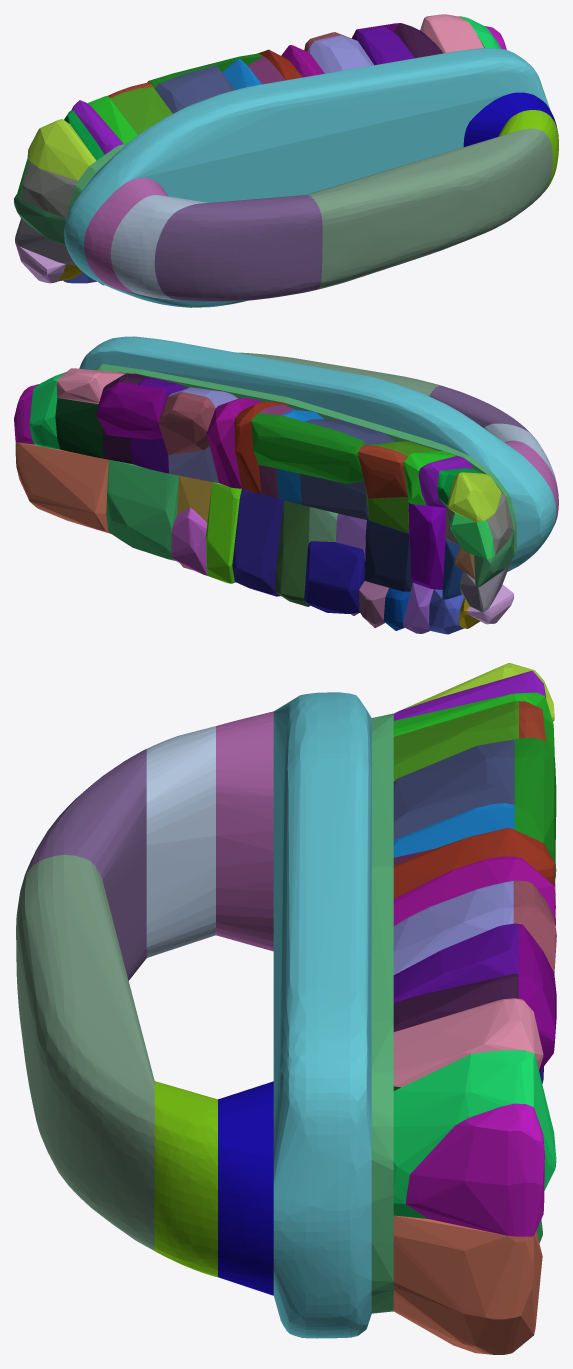
File: handle_eraser.obj
The picture shows the model from 3 angles, top to bottom: view 1: azimuth 30°, elevation 25°; view 2: azimuth 150°, elevation 25°; view 3: azimuth 270°, elevation 25°; orthographic projection. The views are drawn at different scales.
Parts seen in each view (by area): view 1: geometry_2, geometry_0, geometry_1, geometry_6, geometry_7, geometry_34, geometry_5, geometry_16, geometry_35, geometry_30, geometry_12, geometry_24 (+16 smaller); view 2: geometry_2, geometry_9, geometry_10, geometry_8, geometry_18, geometry_20, geometry_3, geometry_11, geometry_16, geometry_19, geometry_32, geometry_21 (+38 smaller); view 3: geometry_2, geometry_0, geometry_9, geometry_6, geometry_22, geometry_3, geometry_7, geometry_1, geometry_23, geometry_4, geometry_5, geometry_16 (+15 smaller).
Boxes of the visible parts, x1,y1,x2,y2 form: geometry_2: [64, 48, 549, 307]; geometry_0: [306, 128, 552, 289]; geometry_1: [154, 195, 322, 301]; geometry_6: [111, 195, 208, 300]; geometry_7: [84, 178, 168, 294]; geometry_34: [27, 119, 96, 180]; geometry_5: [463, 92, 558, 146]; geometry_16: [154, 65, 234, 113]; geometry_35: [21, 162, 77, 218]; geometry_30: [110, 87, 172, 134]; geometry_12: [307, 35, 373, 73]; geometry_24: [420, 14, 484, 53]; geometry_2: [79, 336, 556, 571]; geometry_9: [15, 442, 110, 533]; geometry_10: [106, 460, 178, 561]; geometry_8: [251, 413, 365, 483]; geometry_18: [232, 489, 283, 596]; geometry_20: [304, 541, 364, 613]; geometry_3: [92, 364, 516, 558]; geometry_11: [96, 382, 166, 439]; geometry_16: [300, 419, 395, 520]; geometry_19: [275, 500, 310, 606]; geometry_32: [408, 502, 445, 589]; geometry_21: [364, 520, 412, 591]; geometry_2: [273, 692, 371, 1338]; geometry_0: [16, 854, 154, 1250]; geometry_9: [393, 1215, 542, 1354]; geometry_6: [146, 726, 215, 957]; geometry_22: [405, 1103, 544, 1236]; geometry_3: [371, 713, 393, 1313]; geometry_7: [216, 711, 273, 951]; geometry_1: [24, 749, 146, 980]; geometry_23: [393, 1050, 556, 1218]; geometry_4: [154, 1081, 217, 1277]; geometry_5: [218, 1081, 273, 1295]; geometry_16: [393, 739, 514, 839].
Bounding box in the file's own units: 0.1708 × 0.0682 × 0.0833.
